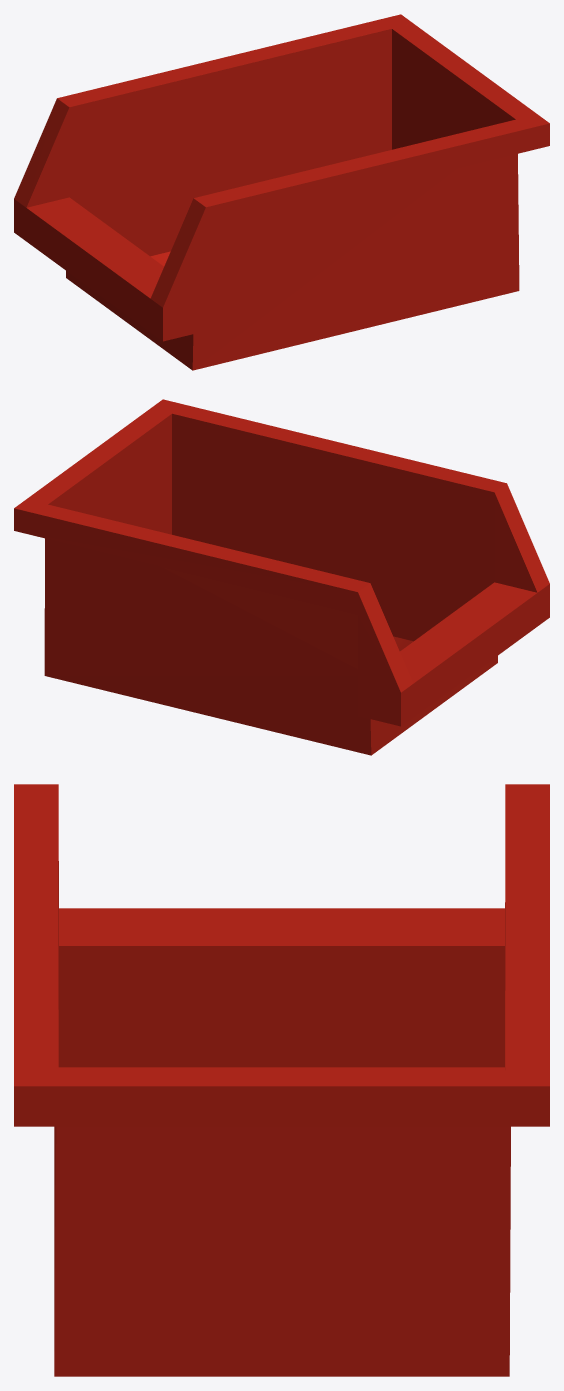
Rendered from StorageContainer.fbx.
The picture shows the model from 3 angles, top to bottom: view 1: azimuth 30°, elevation 25°; view 2: azimuth 150°, elevation 25°; view 3: azimuth 270°, elevation 25°; orthographic projection. The views are drawn at different scales.
Visible parts, largest first — view 1: Plane; view 2: Plane; view 3: Plane.
Boxes of the visible parts, <box> form: Plane: <box>14,14,549,370</box>; Plane: <box>14,399,549,755</box>; Plane: <box>14,784,549,1376</box>.
Bounding box in the file's own units: 36.01 × 15.2 × 24.01.
